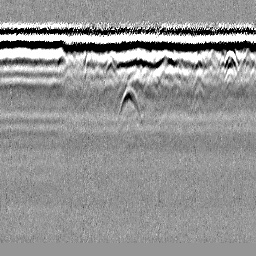cavity: (116, 85, 144, 126)
